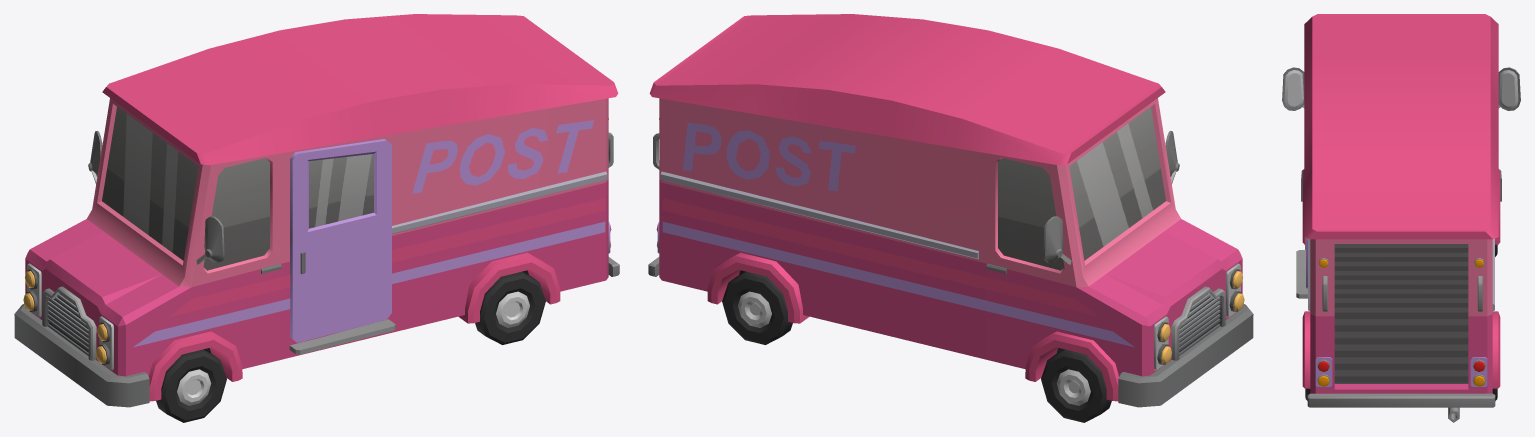
Rendered from PostCar_2_E.gltf.
3 renders of one model, left to right at view 1: azimuth 30°, elevation 25°; view 2: azimuth 150°, elevation 25°; view 3: azimuth 270°, elevation 25°, orthographic. The views are drawn at different scales.
Parts seen in each view (by area): view 1: PostCar_2_E, FL, RL; view 2: PostCar_2_E, FR, RR; view 3: PostCar_2_E.
Boxes of the visible parts, <box> form: PostCar_2_E: <box>14,14,619,407</box>; FL: <box>156,349,226,422</box>; RL: <box>475,271,545,344</box>; PostCar_2_E: <box>648,14,1253,407</box>; FR: <box>1041,349,1111,422</box>; RR: <box>722,271,792,344</box>; PostCar_2_E: <box>1282,14,1520,422</box>.
Bounding box in the file's own units: 4.14 × 2.11 × 1.8.
5 materials, 5 textured.
